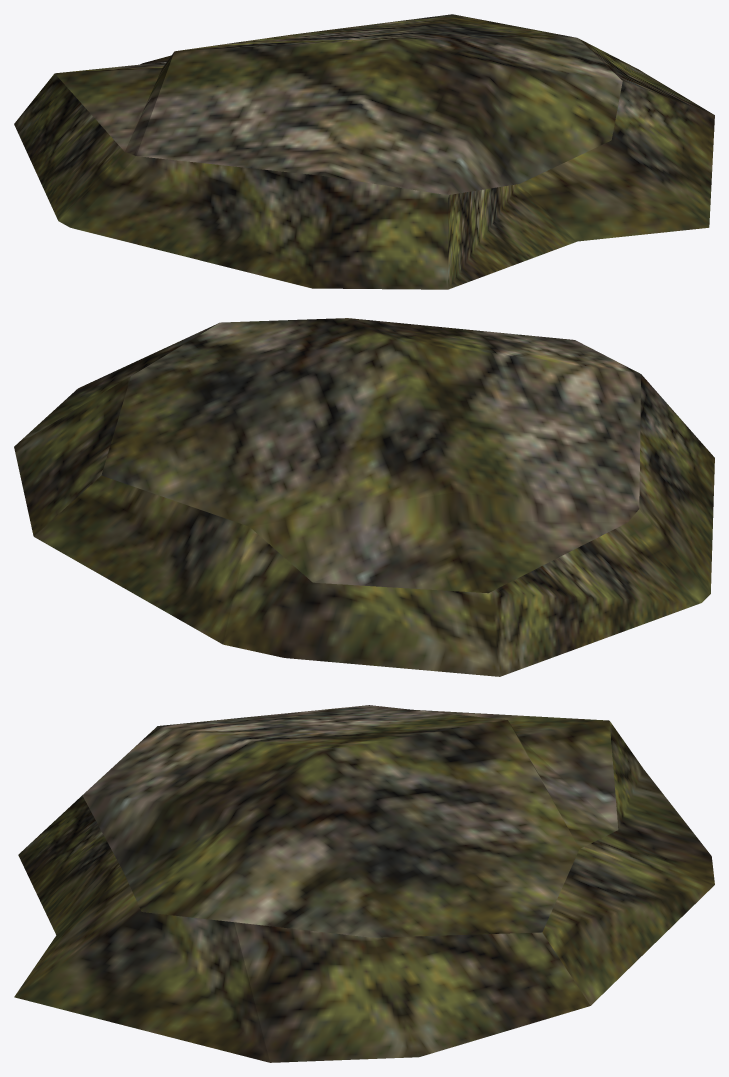
The picture shows the model from 3 angles, top to bottom: view 1: azimuth 30°, elevation 25°; view 2: azimuth 150°, elevation 25°; view 3: azimuth 270°, elevation 25°; orthographic projection. The views are drawn at different scales.
Visible parts, largest first — view 1: wj022; view 2: wj022; view 3: wj022.
Boxes of the visible parts, left/top/right/bottom form: wj022: left=14, top=14, right=714, bottom=289; wj022: left=14, top=318, right=714, bottom=676; wj022: left=14, top=705, right=714, bottom=1062.
Bounding box in the file's own units: 726 × 152 × 652.
